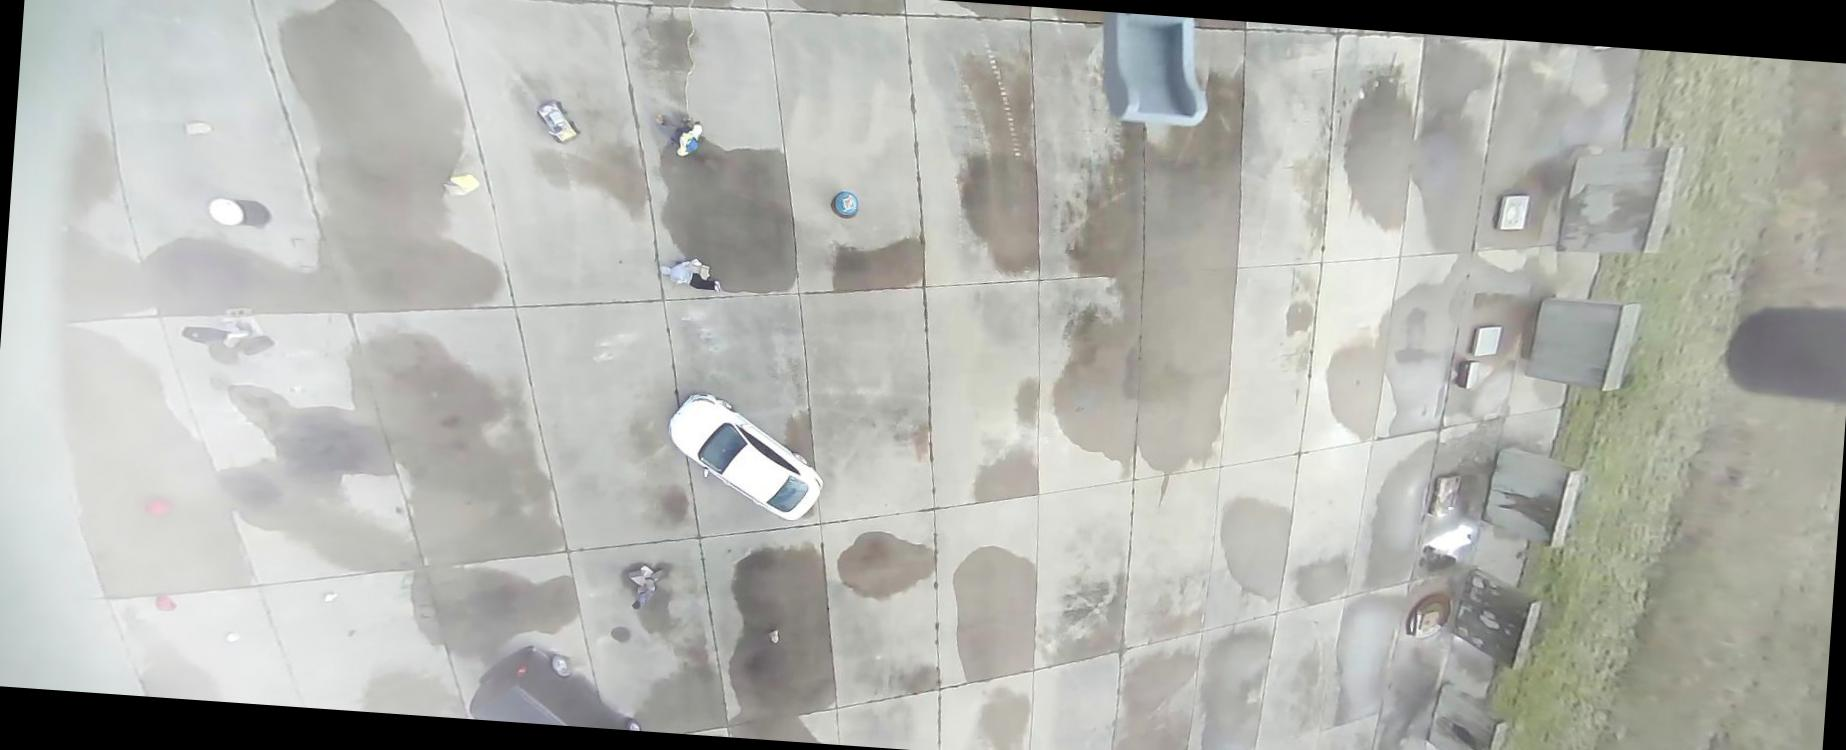vehicle: (663, 391, 830, 524), (467, 641, 648, 730)
